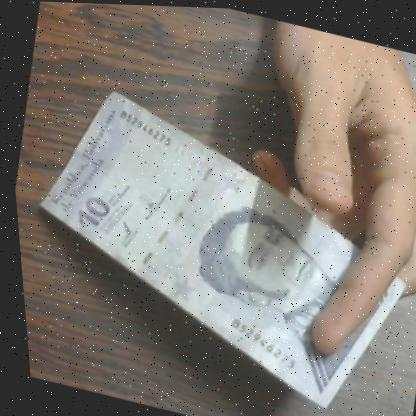ten-front-vef: (5, 74, 416, 416)
